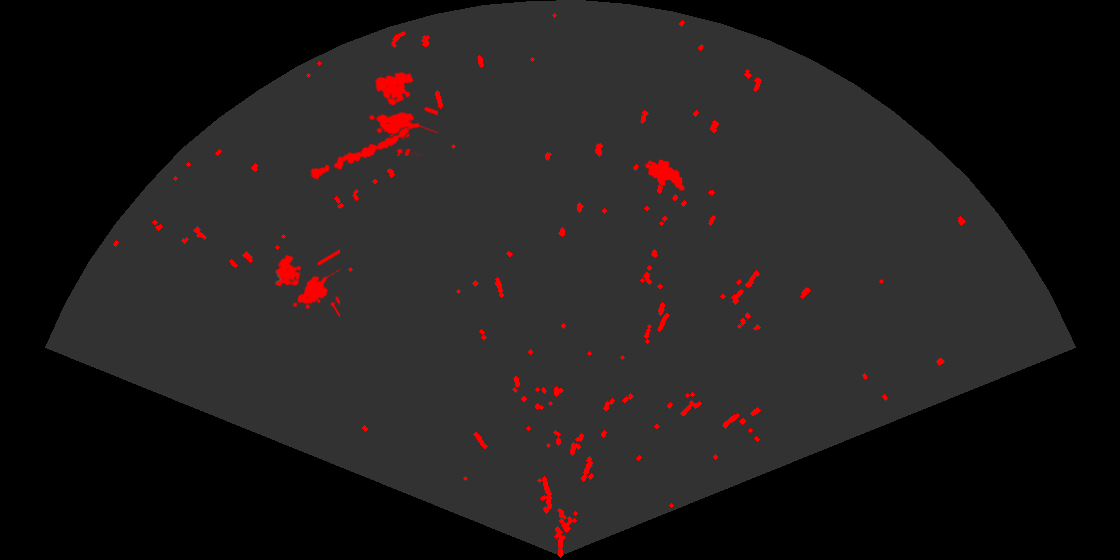AUV: (644, 158, 686, 192)
cage: (367, 70, 438, 156), (274, 247, 340, 319)
chain: (308, 126, 411, 182)
